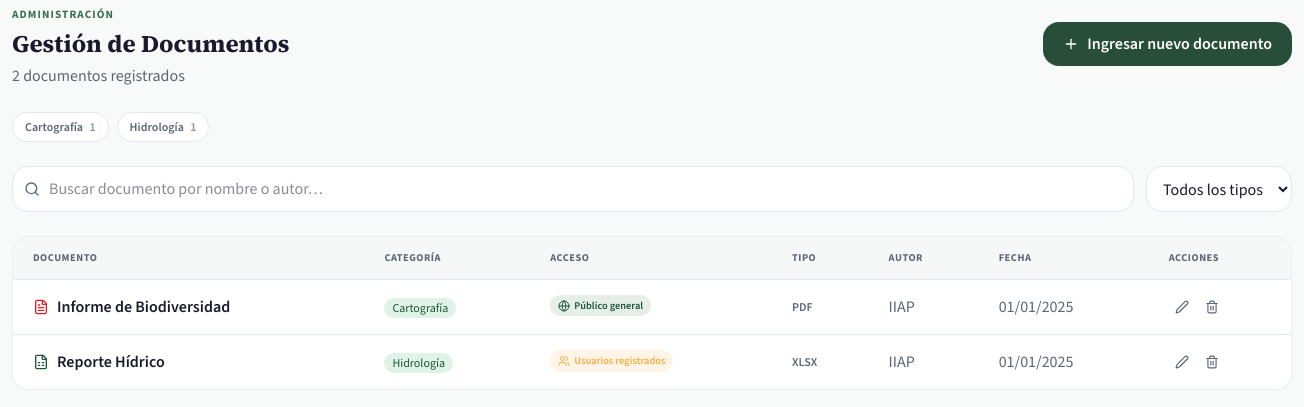
Test: GestionDocumentos — tabla y filtros › el filtro de tipo aplica solo del lado cliente sobre los documentos cargados
The image size is (1304, 407).
Select "Excel" in the dropdown showing "Todos los tipos" at [1219, 189], box 1146,166 -> 1292,212
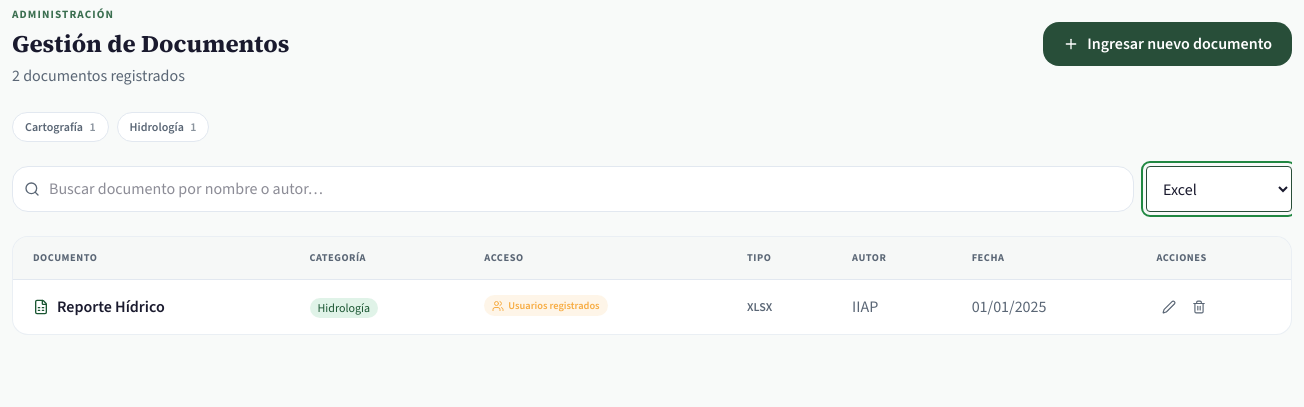
Check: the text "Reporte Hídrico" is shown, box 57,295 -> 165,319
Check: the text "Informe de Biodiversidad" is gone
